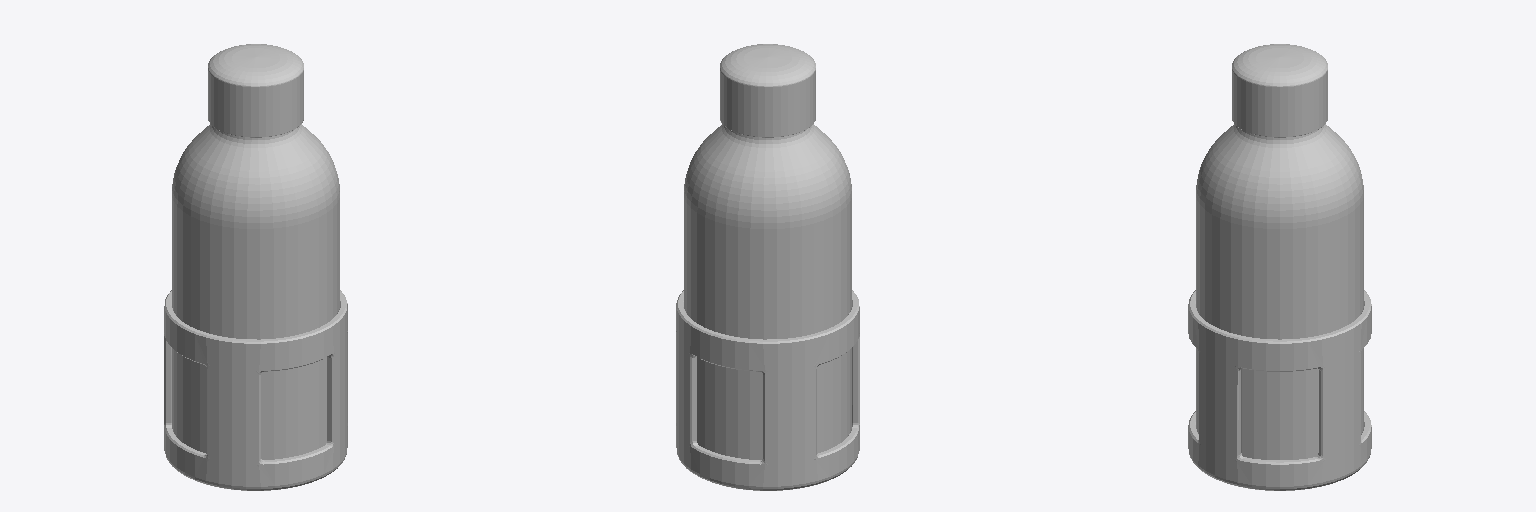
The model's file is waterbottle.obj.
3 views of the same model, side by side, from view 1: azimuth 30°, elevation 25°; view 2: azimuth 150°, elevation 25°; view 3: azimuth 270°, elevation 25° (orthographic).
Visible parts, largest first — view 1: WaterBottle; view 2: WaterBottle; view 3: WaterBottle.
Part boxes in pixels (x1,y1,x2,y2): WaterBottle: (164, 44, 347, 490); WaterBottle: (676, 44, 859, 490); WaterBottle: (1188, 44, 1371, 490).
Bounding box in the file's own units: 1.61 × 3.86 × 1.61.